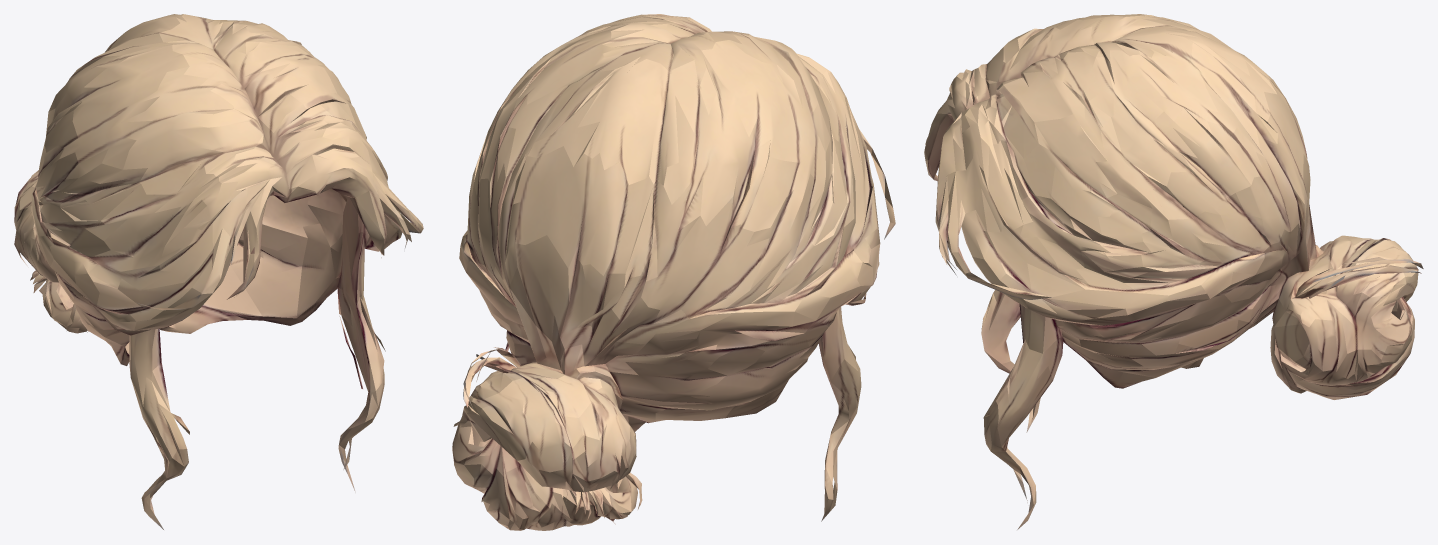
The model's file is fennal_f-chignon-bas.glb.
3 views of the same model, side by side, from view 1: azimuth 30°, elevation 25°; view 2: azimuth 150°, elevation 25°; view 3: azimuth 270°, elevation 25° (orthographic). The views are drawn at different scales.
Parts seen in each view (by area): view 1: geometry_0; view 2: geometry_0; view 3: geometry_0.
Part boxes in pixels (x1,y1,x2,y2): geometry_0: (14, 14, 423, 529); geometry_0: (452, 14, 895, 530); geometry_0: (924, 14, 1423, 529).
Bounding box in the file's own units: 1.36 × 1.88 × 1.89.
1 material, 1 textured.
